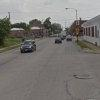Car: (12, 34, 39, 55)
